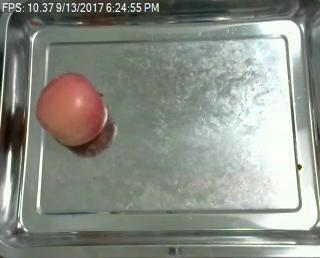apple: (36, 72, 108, 146)
